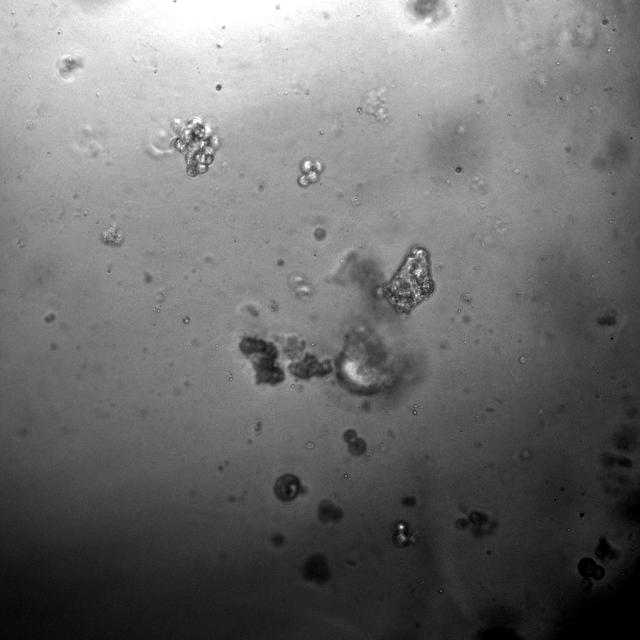organoid: (333, 326, 411, 395), (373, 247, 434, 313), (169, 116, 221, 178), (239, 336, 284, 385), (282, 336, 332, 379), (456, 510, 498, 537), (407, 0, 450, 23), (274, 473, 308, 502), (296, 156, 326, 187), (302, 554, 331, 584), (342, 429, 367, 455), (577, 557, 605, 580), (594, 536, 619, 561), (58, 55, 84, 78), (318, 500, 343, 522), (392, 521, 412, 547), (101, 224, 123, 247), (596, 307, 618, 326), (313, 227, 326, 241), (401, 496, 416, 507), (181, 316, 191, 326), (454, 166, 462, 174), (215, 83, 222, 91), (602, 19, 608, 24)
